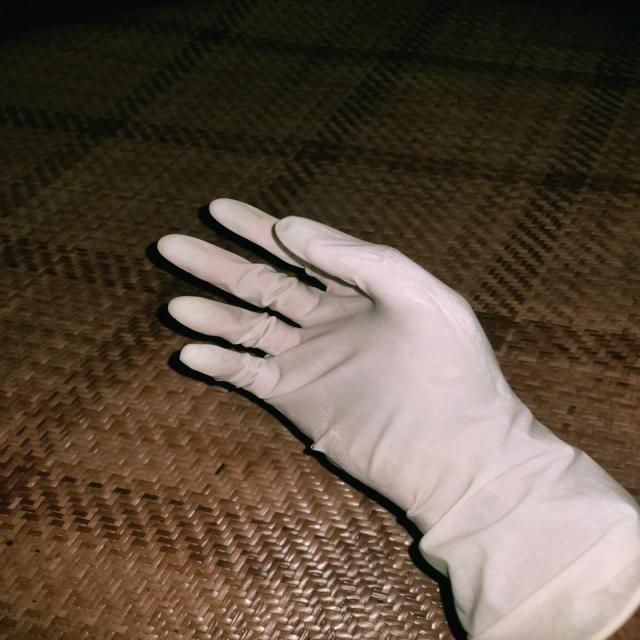glove: (155, 193, 640, 638)
